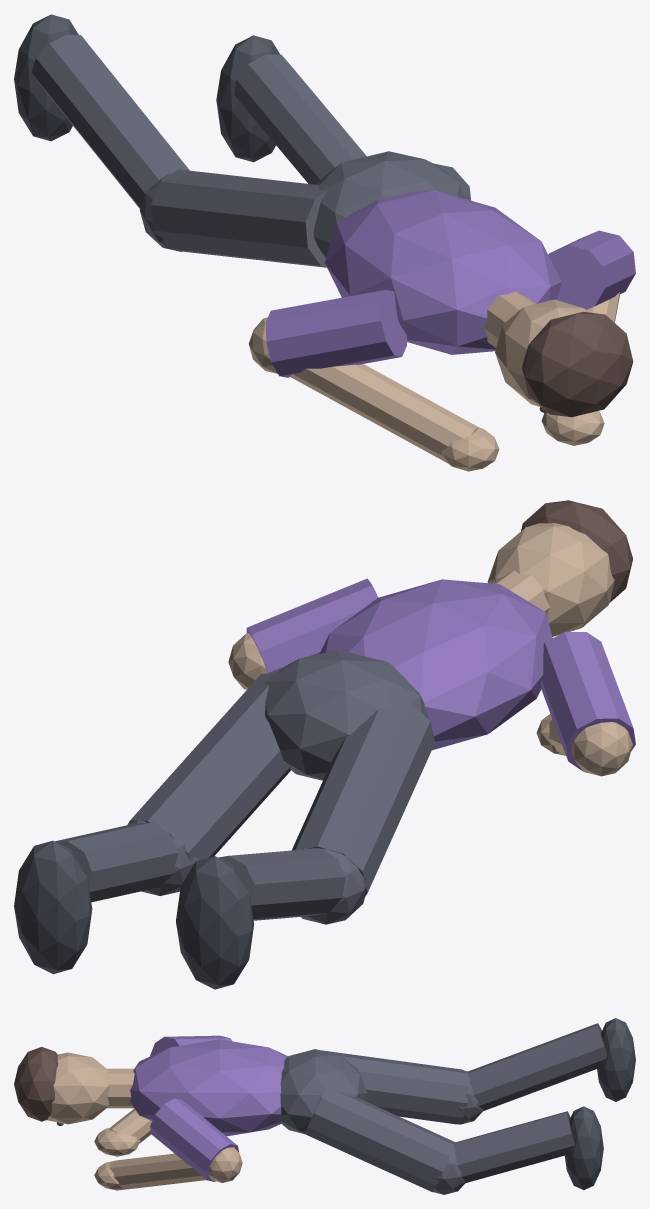
3 views of the same model, one above another, from view 1: azimuth 30°, elevation 25°; view 2: azimuth 150°, elevation 25°; view 3: azimuth 270°, elevation 25° (orthographic). The views are drawn at different scales.
Visible parts, largest first — view 1: world; view 2: world; view 3: world.
Boxes of the visible parts, bbox=[...] form: world: bbox=[14, 14, 635, 471]; world: bbox=[14, 500, 635, 989]; world: bbox=[14, 1018, 635, 1194].
Size of the model in its own units: 0.93 by 0.4412 by 2.01.
